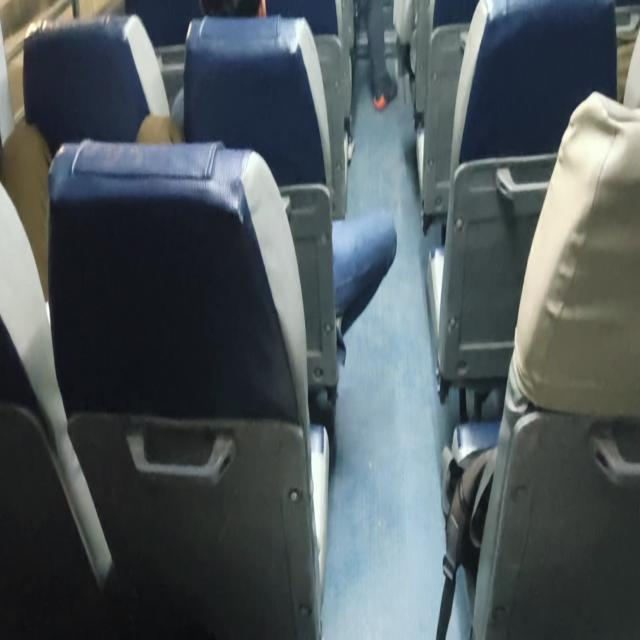person: (2, 2, 638, 636), (437, 28, 639, 636), (170, 7, 397, 359), (362, 0, 398, 111)
